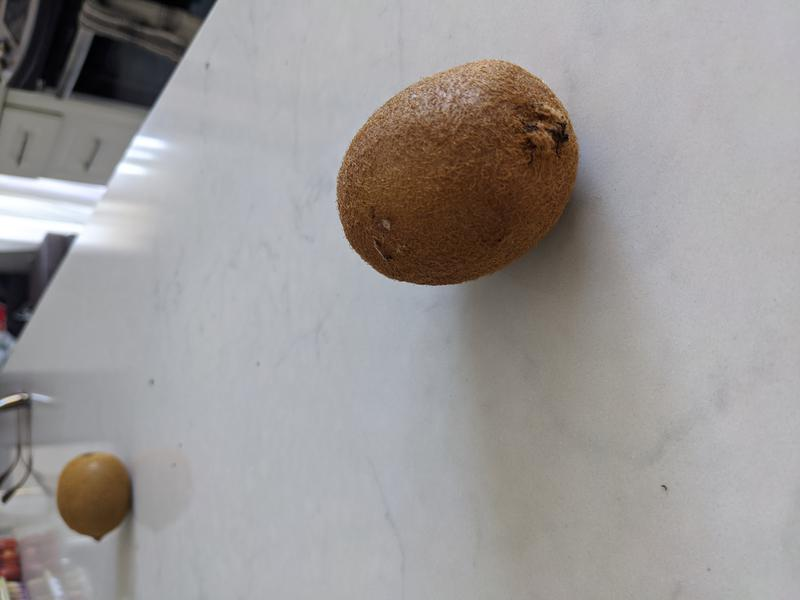kiwi: (335, 59, 580, 287), (53, 450, 132, 543)
